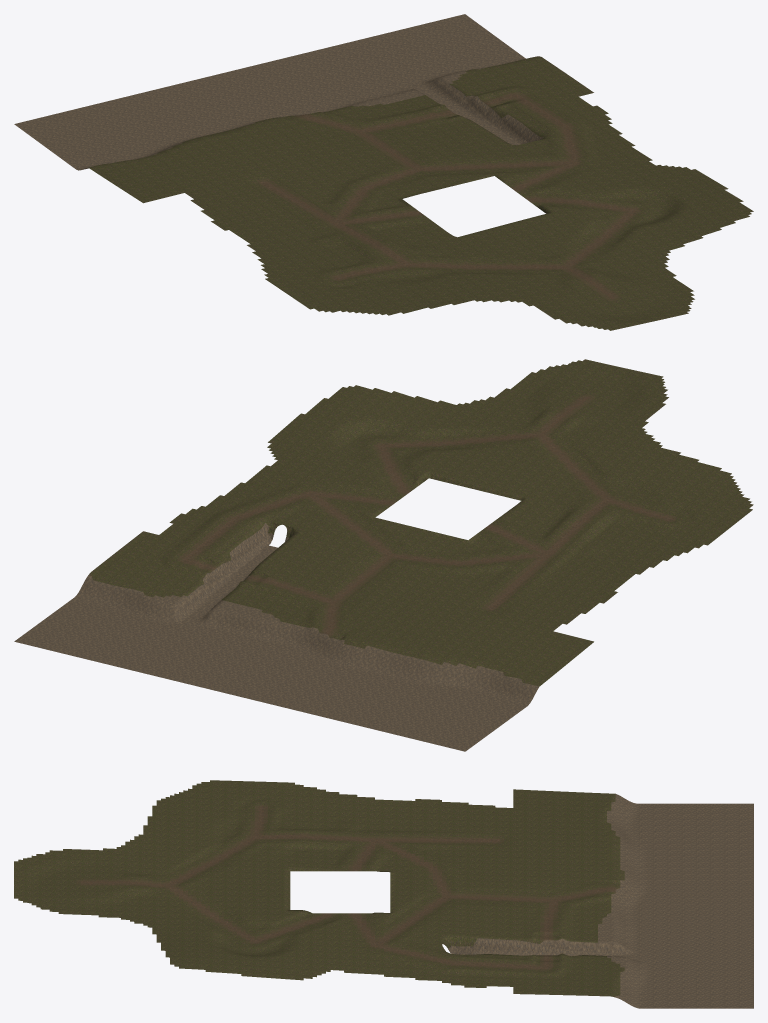
Rendered from level_camp_siteart_ground.glb.
3 views of the same model, one above another, from view 1: azimuth 30°, elevation 25°; view 2: azimuth 150°, elevation 25°; view 3: azimuth 270°, elevation 25° (orthographic). The views are drawn at different scales.
Parts seen in each view (by area): view 1: level_camp_terrain_amenities; view 2: level_camp_terrain_amenities; view 3: level_camp_terrain_amenities.
Part boxes in pixels (left/top/right/bottom): level_camp_terrain_amenities: left=14, top=14, right=753, bottom=330; level_camp_terrain_amenities: left=14, top=359, right=753, bottom=751; level_camp_terrain_amenities: left=14, top=780, right=753, bottom=1008.
Bounding box in the file's own units: 68 × 5.11 × 104.
6 materials, 6 textured.
